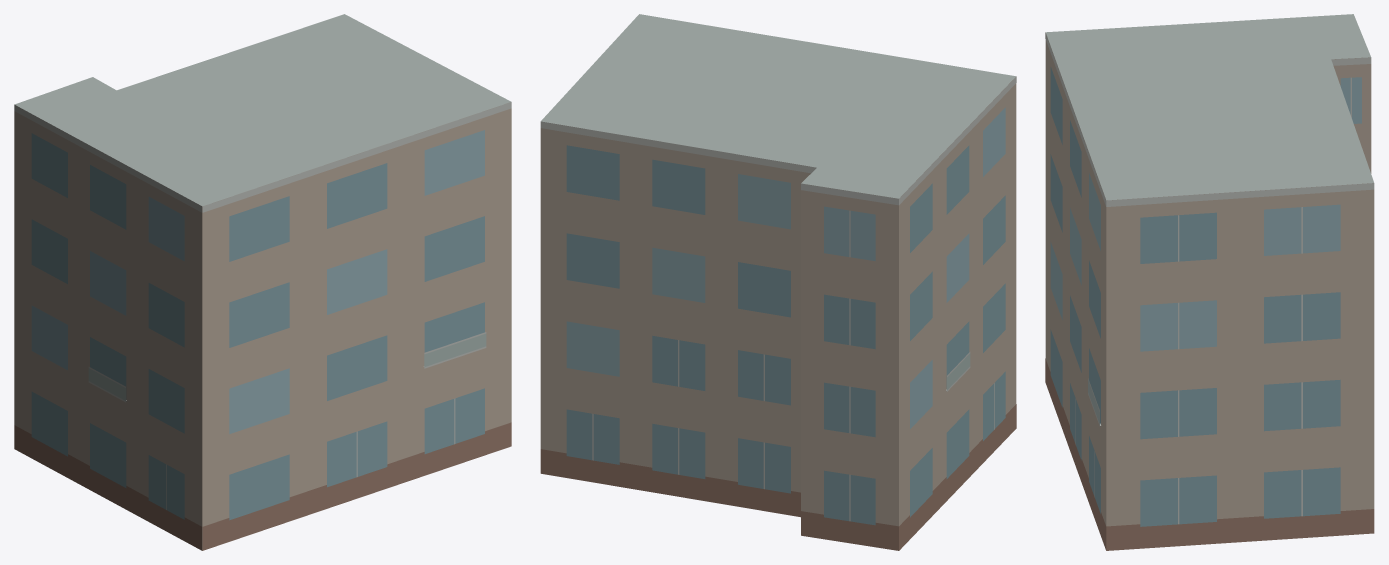
File: survey-upis-32548557.glb
3 views of the same model, side by side, from view 1: azimuth 30°, elevation 25°; view 2: azimuth 150°, elevation 25°; view 3: azimuth 270°, elevation 25° (orthographic). The views are drawn at different scales.
Visible parts, largest first — view 1: survey-upis-32548557.tmp; view 2: survey-upis-32548557.tmp; view 3: survey-upis-32548557.tmp.
Part boxes in pixels (x1,y1,x2,y2): survey-upis-32548557.tmp: (14,14,511,550); survey-upis-32548557.tmp: (540,14,1016,550); survey-upis-32548557.tmp: (1045,14,1374,550).
Bounding box in the file's own units: 14.73 × 12.9 × 10.98.
